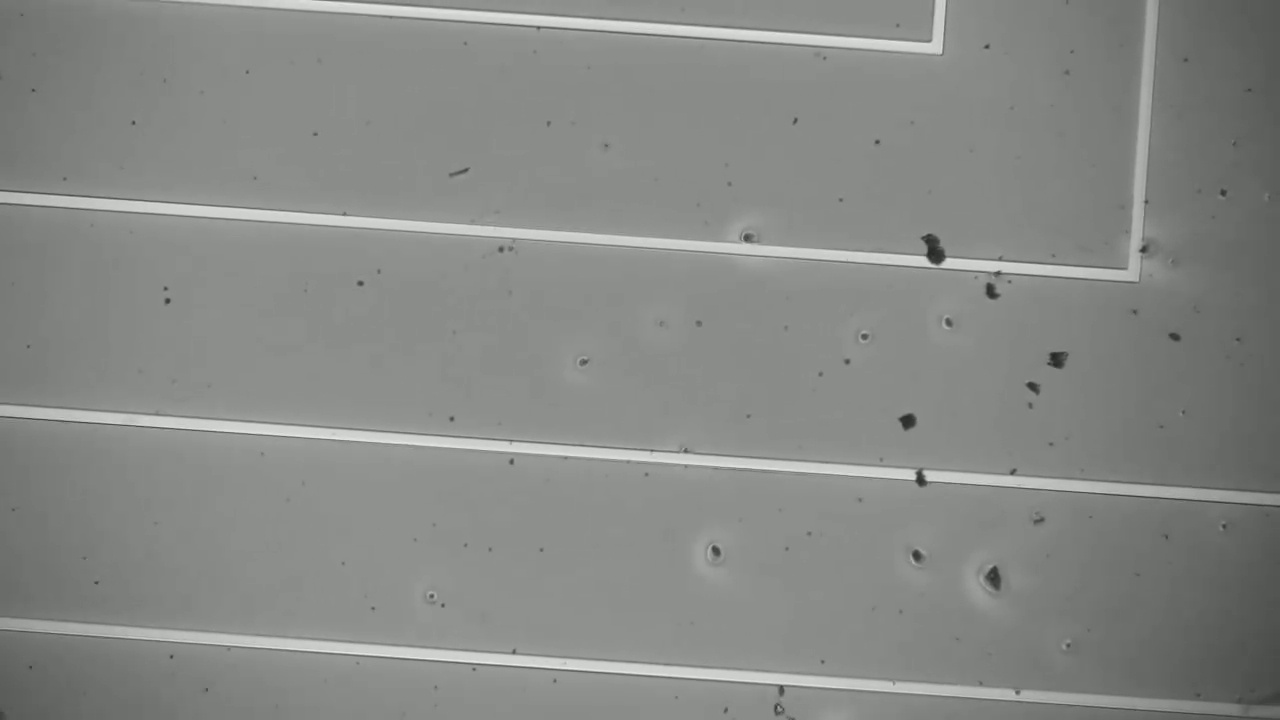stains_enbedded: (908, 228, 948, 277), (907, 462, 935, 495)
